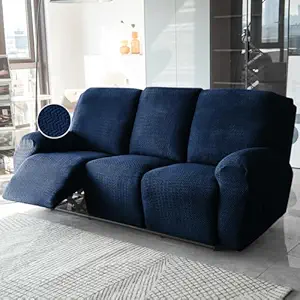3seatersofa: (3, 88, 295, 250)
backrest: (188, 89, 295, 164), (130, 87, 200, 161), (71, 88, 140, 154)
leftarmrest: (216, 146, 291, 249)
rightarmrest: (14, 132, 75, 169)
seat: (5, 146, 217, 243)
